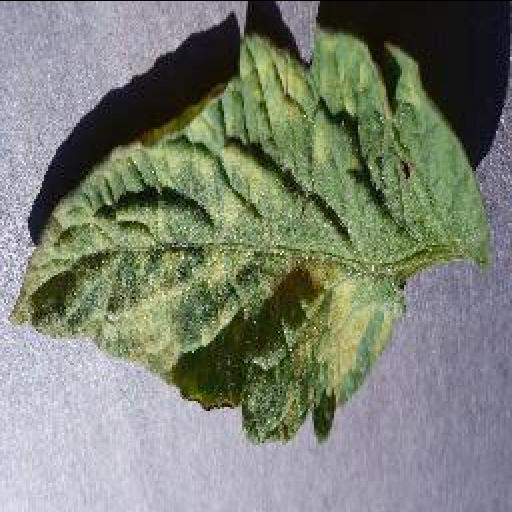disease_tomato: (8, 28, 496, 444)
